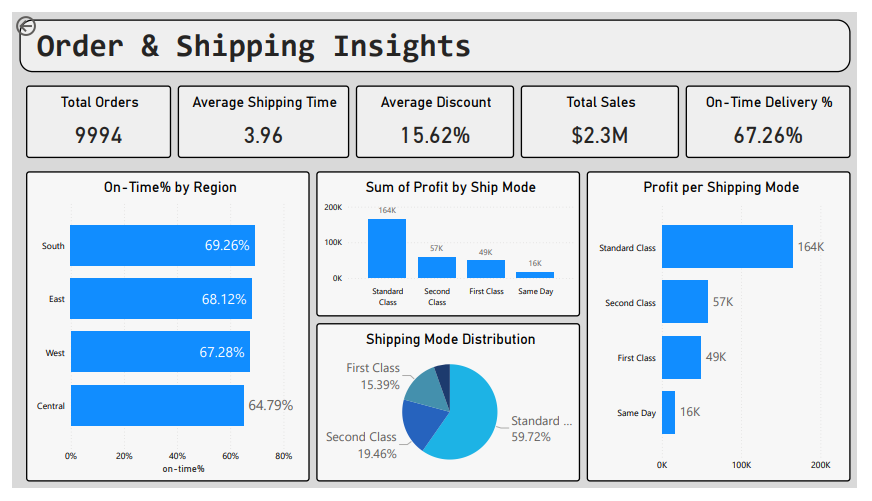

The page's visual inventory and layout, read from the dashboard file:
{"tool":"powerbi","page":{"name":"Order & Shipping Insights","canvas":[1280,720],"ordinal":3},"visuals":[{"type":"shape","box":[10,10,1260,80],"z":0},{"type":"textbox","box":[32,16,1100,70],"z":1000},{"type":"card","title":"Total Orders","fields":{"Values":["Sample_ Superstore.Total Orders"]},"box":[20,110,220,110],"z":2000},{"type":"card","title":"Average Shipping Time","fields":{"Values":["Sample_ Superstore.Avg Ship Time"]},"box":[250,110,260,110],"z":3000},{"type":"card","title":"Average Discount","fields":{"Values":["Sample_ Superstore.Avg Discount"]},"box":[520,110,240,110],"z":4000},{"type":"card","title":"Total Sales","fields":{"Values":["Sample_ Superstore.Total_Sales"]},"box":[770,110,240,110],"z":5000},{"type":"columnChart","fields":{"Y":["Sum(Sample_ Superstore.Profit)"],"Category":["Sample_ Superstore.Ship Mode"]},"box":[460,240,400,220],"z":6000},{"type":"barChart","title":"On-Time% by Region","fields":{"Category":["Sample_ Superstore.Region"],"Y":["Sample_ Superstore.on-time%"]},"box":[20,240,430,470],"z":7000},{"type":"pieChart","title":"Shipping Mode Distribution","fields":{"Y":["CountNonNull(Sample_ Superstore.Order ID)"],"Category":["Sample_ Superstore.Ship Mode"]},"box":[460,470,400,240],"z":8000},{"type":"card","title":"On-Time Delivery %","fields":{"Values":["Sample_ Superstore.on-time%"]},"box":[1020,110,250,110],"z":8001},{"type":"actionButton","box":[0,0,100,40],"z":8002},{"type":"barChart","title":"Profit per Shipping Mode","fields":{"Y":["Sum(Sample_ Superstore.Profit)"],"Category":["Sample_ Superstore.Ship Mode"]},"box":[870,240,400,470],"z":8003}]}

Visuals, with their boxes in screenshot pixels (x1, y1, x2, y2), scaled from the page's 1280x720 canvas onto the 872x501 screenshot:
shape: pyautogui.locateOnScreen(7, 7, 865, 63)
textbox: pyautogui.locateOnScreen(22, 11, 771, 60)
"Total Orders" card: pyautogui.locateOnScreen(14, 77, 164, 153)
"Average Shipping Time" card: pyautogui.locateOnScreen(170, 77, 347, 153)
"Average Discount" card: pyautogui.locateOnScreen(354, 77, 518, 153)
"Total Sales" card: pyautogui.locateOnScreen(525, 77, 688, 153)
columnChart - Sum(Sample_ Superstore.Profit) x Sample_ Superstore.Ship Mode: pyautogui.locateOnScreen(313, 167, 586, 320)
"On-Time% by Region" barChart: pyautogui.locateOnScreen(14, 167, 307, 494)
"Shipping Mode Distribution" pieChart: pyautogui.locateOnScreen(313, 327, 586, 494)
"On-Time Delivery %" card: pyautogui.locateOnScreen(695, 77, 865, 153)
actionButton: pyautogui.locateOnScreen(0, 0, 68, 28)
"Profit per Shipping Mode" barChart: pyautogui.locateOnScreen(593, 167, 865, 494)
